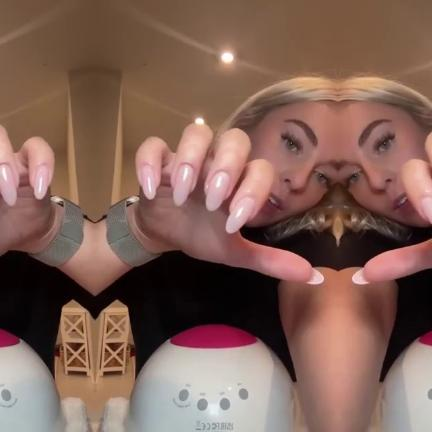Nail: (224, 196, 254, 234), (205, 171, 229, 211), (172, 163, 193, 207), (0, 163, 16, 207), (140, 165, 155, 199), (33, 165, 48, 199), (420, 196, 432, 225)
